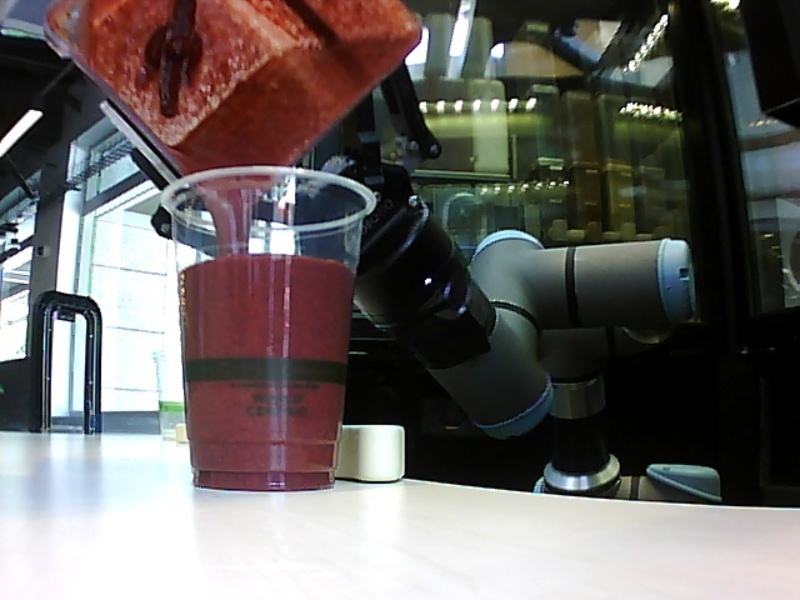cup: (158, 159, 378, 498)
limit: (175, 244, 357, 279)
